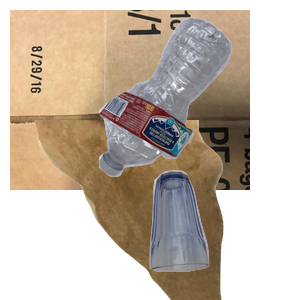cardboard: (10, 10, 250, 190)
glass: (147, 168, 300, 300)
plastic: (96, 15, 300, 184)
trash: (32, 120, 248, 300)
